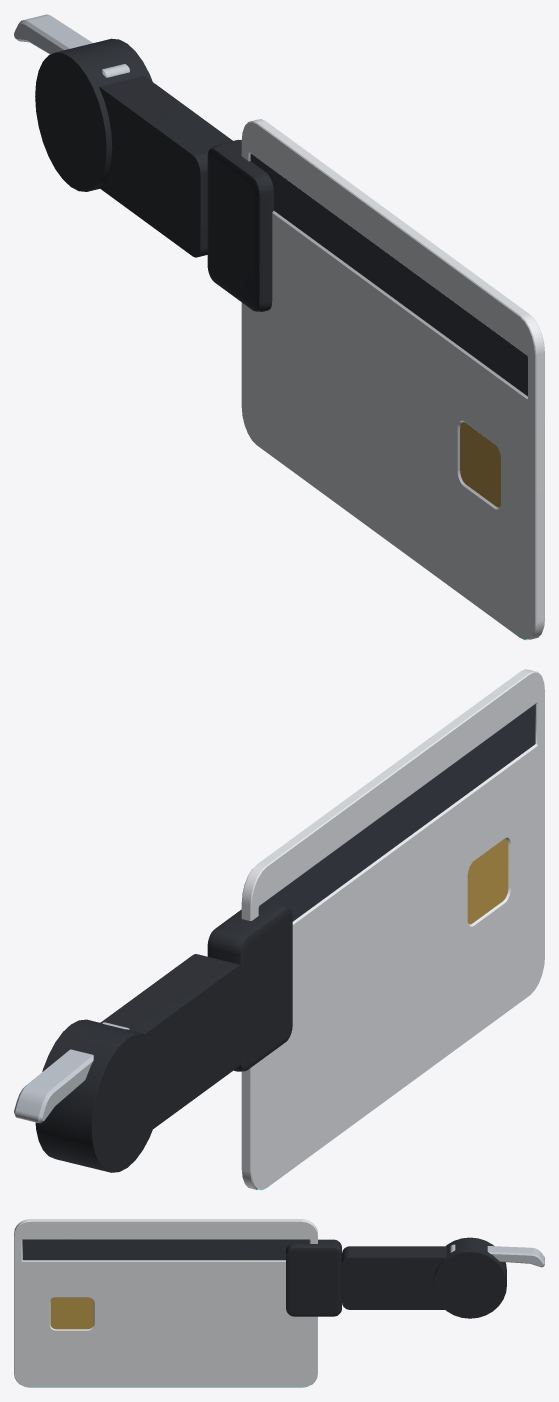
File: w_knife@knife_keycard.glb
3 views of the same model, one above another, from view 1: azimuth 30°, elevation 25°; view 2: azimuth 150°, elevation 25°; view 3: azimuth 270°, elevation 25° (orthographic). The views are drawn at different scales.
Visible parts, largest first — view 1: card_wzB__card__pe8ebef, reel_wzA__reel__p2c2f35, stripe_wzN__stripe__p3a3f48, holder_wzA__reel__p2c2f35, chip_wzN__chip__pc9a54e, clip_wzN__clip__pc3cad3; view 2: card_wzB__card__pe8ebef, reel_wzA__reel__p2c2f35, stripe_wzN__stripe__p3a3f48, holder_wzA__reel__p2c2f35, clip_wzN__clip__pc3cad3, chip_wzN__chip__pc9a54e; view 3: card_wzB__card__pe8ebef, reel_wzA__reel__p2c2f35, stripe_wzN__stripe__p3a3f48, holder_wzA__reel__p2c2f35, chip_wzN__chip__pc9a54e, clip_wzN__clip__pc3cad3, edge_wzN__lit__n63d8ff.
Boxes of the visible parts, x1,y1,x2,y2 form: card_wzB__card__pe8ebef: (241,119,544,639); reel_wzA__reel__p2c2f35: (35,38,232,257); stripe_wzN__stripe__p3a3f48: (251,154,527,396); holder_wzA__reel__p2c2f35: (207,139,273,311); chip_wzN__chip__pc9a54e: (460,422,500,507); clip_wzN__clip__pc3cad3: (14,14,129,77); card_wzB__card__pe8ebef: (241,669,544,1189); reel_wzA__reel__p2c2f35: (35,954,245,1172); stripe_wzN__stripe__p3a3f48: (258,704,535,921); holder_wzA__reel__p2c2f35: (207,903,292,1071); clip_wzN__clip__pc3cad3: (14,1022,129,1123); chip_wzN__chip__pc9a54e: (467,839,508,924); card_wzB__card__pe8ebef: (14,1219,317,1387); reel_wzA__reel__p2c2f35: (342,1237,506,1318); stripe_wzN__stripe__p3a3f48: (22,1239,309,1260); holder_wzA__reel__p2c2f35: (286,1239,341,1316); chip_wzN__chip__pc9a54e: (50,1297,93,1329); clip_wzN__clip__pc3cad3: (450,1244,544,1267); edge_wzN__lit__n63d8ff: (21,1385,310,1387).
Size of the model in its own units: 0.017 by 0.092 by 0.2655.
